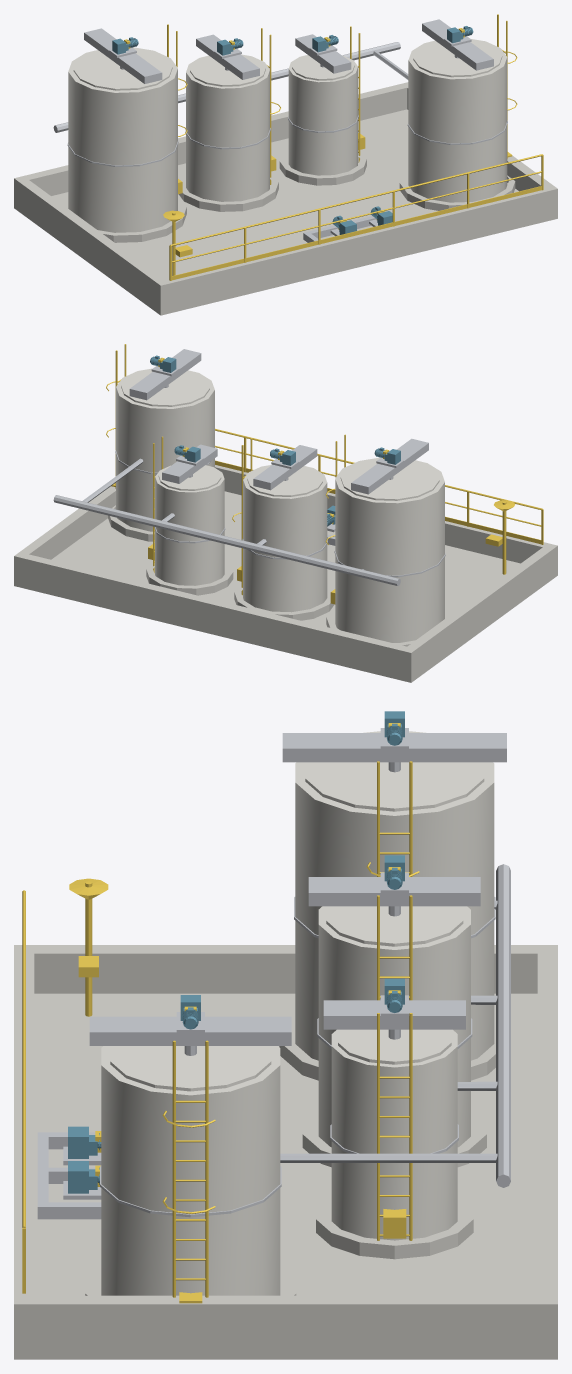
File: ore-processing-and-haulage-plant-reagent-tank-farm-ab10b5f1.glb
3 renders of one model, top to bottom at view 1: azimuth 30°, elevation 25°; view 2: azimuth 150°, elevation 25°; view 3: azimuth 270°, elevation 25°, orthographic. The views are drawn at different scales.
Visible parts, largest first — view 1: reagent-tank-farm; view 2: reagent-tank-farm; view 3: reagent-tank-farm.
Part boxes in pixels (left/top/right/bottom): reagent-tank-farm: left=14, top=14, right=557, bottom=315; reagent-tank-farm: left=14, top=344, right=557, bottom=682; reagent-tank-farm: left=14, top=711, right=557, bottom=1359.
Bounding box in the file's own units: 12.67 × 5.55 × 8.
